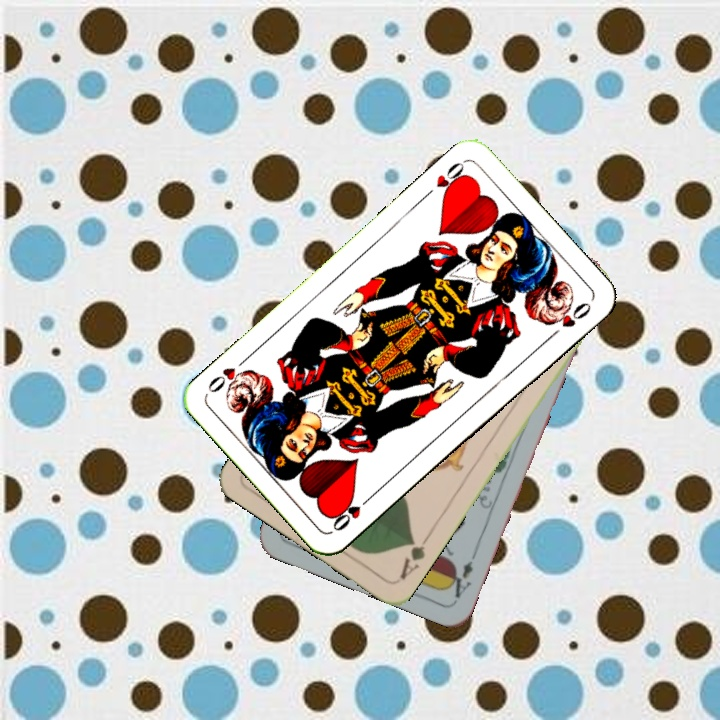EA: (444, 546, 480, 601)
GA: (395, 530, 433, 582)
HO: (419, 157, 471, 201), (328, 490, 376, 534)
